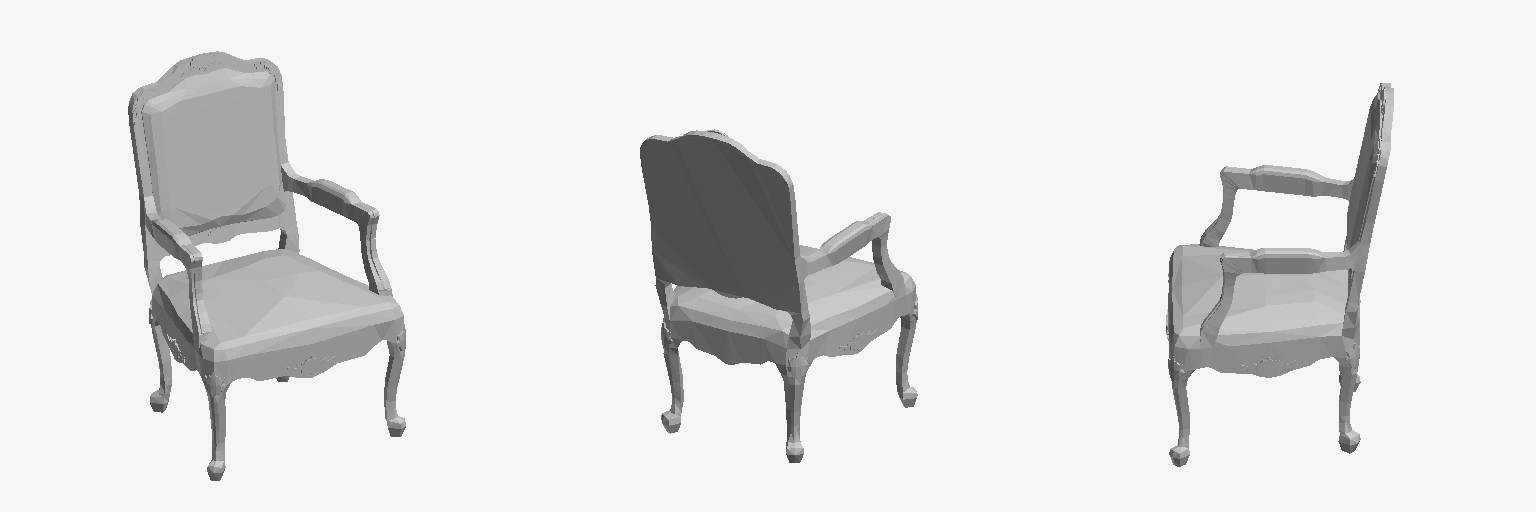
File: GreenChair_01.obj
3 renders of one model, left to right at view 1: azimuth 30°, elevation 25°; view 2: azimuth 150°, elevation 25°; view 3: azimuth 270°, elevation 25°, orthographic.
Visible parts, largest first — view 1: GreenChair_01_classic-chair.003; view 2: GreenChair_01_classic-chair.003; view 3: GreenChair_01_classic-chair.003.
Part boxes in pixels (x1,y1,x2,y2): GreenChair_01_classic-chair.003: (128,51,405,480); GreenChair_01_classic-chair.003: (640,129,917,462); GreenChair_01_classic-chair.003: (1166,83,1393,466).
Size of the model in its own units: 0.6731 by 1.06 by 0.6644.